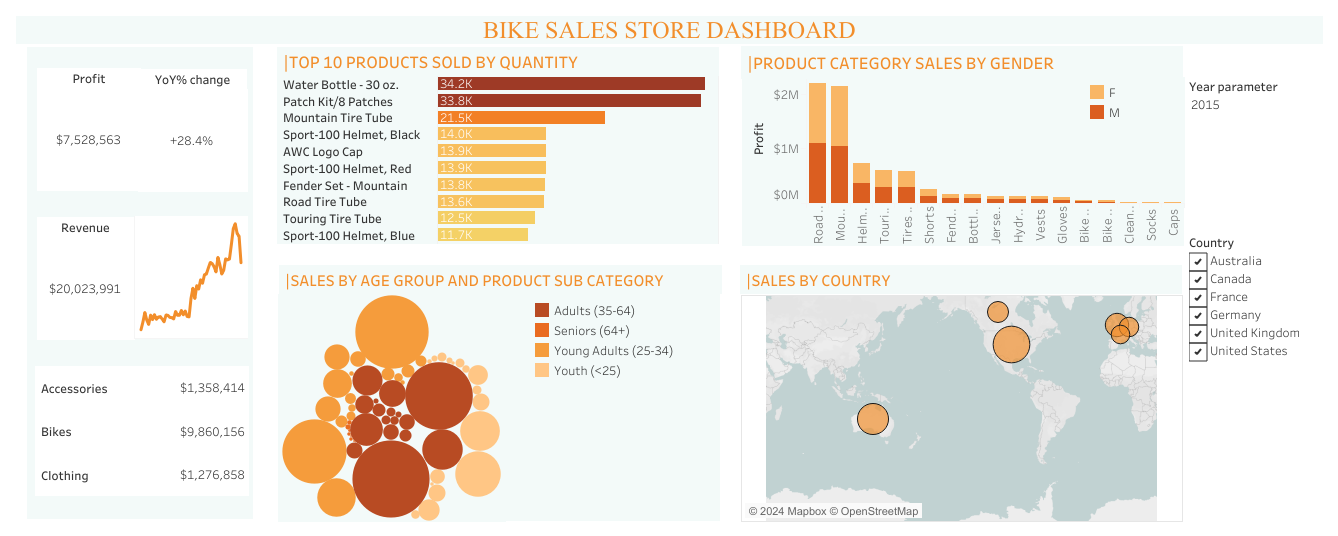

The dashboard page shown, as its layout file describes it:
{"tool":"tableau","page":{"name":"Bike sales store Dashboard","canvas":[1000,1000],"units":"permille","ordinal":0},"visuals":[{"type":"title","box":[10.4,21.7,979.2,63.4]},{"type":"text","box":[553.1,85.1,330.5,61.6]},{"type":"text","box":[206.7,87,330.5,54.4]},{"type":"worksheet","title":"Profit Card","mark":"Automatic","cols":["Calculation_306807749867044865"],"box":[27.6,126.8,77.8,226.5]},{"type":"worksheet","title":"YOY% change","mark":"Automatic","cols":["Calculation_713539091395723269"],"box":[102.9,128.6,81.2,226.5]},{"type":"worksheet","title":"Top 10 Products","mark":"Bar","rows":["Product"],"box":[206.7,139.5,330.5,315.2]},{"type":"parameter","param":"[Parameters].[Parameter 1]","box":[887.9,141.3,103.8,74.3]},{"type":"worksheet","title":"Sub Category bar chart","mark":"Automatic","rows":["Profit"],"cols":["Sub_Category"],"box":[554,143.1,330.5,315.2]},{"type":"legend","title":"Sub Category bar chart","param":"[federated.1mn3xwe06ah3e81fptqem1xfrhmy].[none:Customer_Gender:nk]","box":[811.7,152.2,67,72.5]},{"type":"worksheet","title":"Revenue line chart","mark":"Automatic","rows":["Revenue"],"cols":["Date"],"box":[100.4,402.2,83.7,226.5]},{"type":"worksheet","title":"Revenue card","mark":"Automatic","cols":["Calculation_713539091399720966"],"box":[27.6,404,72.8,226.5]},{"type":"filter","title":"Age Group Bubble chart","param":"[federated.1mn3xwe06ah3e81fptqem1xfrhmy].[none:Country:nk]","box":[887.9,431.2,104.6,311.6]},{"type":"text","box":[208.4,492.8,330.5,54.4]},{"type":"text","box":[552.3,492.8,330.5,54.4]},{"type":"worksheet","title":"Age Group Bubble chart","mark":"Circle","box":[207.5,547.1,330.5,423.9]},{"type":"worksheet","title":"Map","mark":"Automatic","box":[553.1,548.9,330.5,423.9]},{"type":"legend","title":"Age Group Bubble chart","param":"[federated.1mn3xwe06ah3e81fptqem1xfrhmy].[none:Age_Group:nk]","box":[397.5,558,136.4,148.6]},{"type":"worksheet","title":"Cost cards","mark":"Automatic","rows":["Product_Category"],"box":[25.9,681.2,159.8,242.8]}]}

Visuals, with their boxes on the dashboard's canvas, which has no fixed pixel size, in thousandths of its width and height (x1, y1, x2, y2). These are canvas units, not pixel positions in the 1338x536 screenshot, which may show the page scaled, cropped or inside an application window:
title: (left=10, top=22, right=990, bottom=85)
text: (left=553, top=85, right=884, bottom=147)
text: (left=207, top=87, right=537, bottom=141)
"Profit Card" worksheet: (left=28, top=127, right=105, bottom=353)
"YOY% change" worksheet: (left=103, top=129, right=184, bottom=355)
"Top 10 Products" worksheet (Bar marks): (left=207, top=140, right=537, bottom=455)
parameter: (left=888, top=141, right=992, bottom=216)
"Sub Category bar chart" worksheet: (left=554, top=143, right=884, bottom=458)
"Sub Category bar chart" legend: (left=812, top=152, right=879, bottom=225)
"Revenue line chart" worksheet: (left=100, top=402, right=184, bottom=629)
"Revenue card" worksheet: (left=28, top=404, right=100, bottom=630)
"Age Group Bubble chart" filter: (left=888, top=431, right=992, bottom=743)
text: (left=208, top=493, right=539, bottom=547)
text: (left=552, top=493, right=883, bottom=547)
"Age Group Bubble chart" worksheet (Circle marks): (left=208, top=547, right=538, bottom=971)
"Map" worksheet: (left=553, top=549, right=884, bottom=973)
"Age Group Bubble chart" legend: (left=398, top=558, right=534, bottom=707)
"Cost cards" worksheet: (left=26, top=681, right=186, bottom=924)
